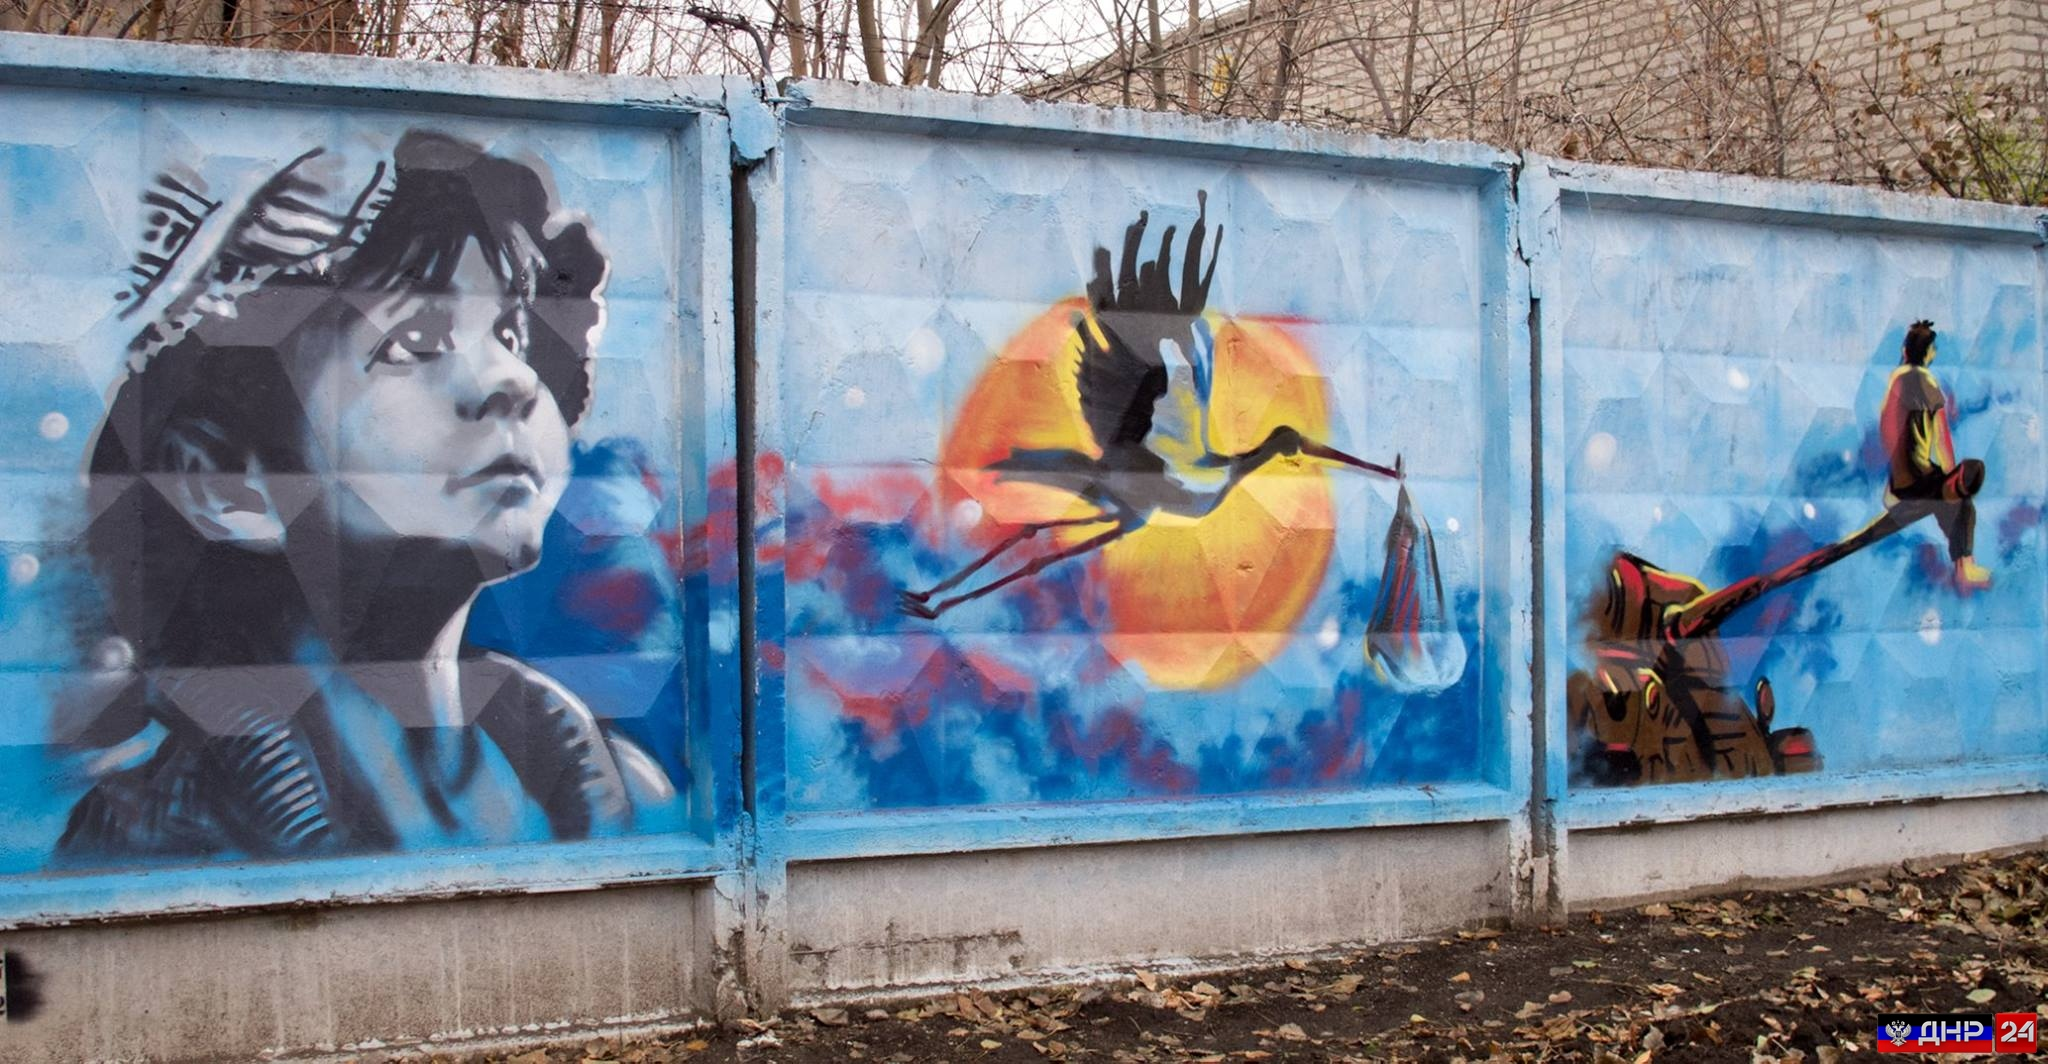graphite: (45, 87, 675, 866), (791, 130, 1478, 799), (1554, 191, 2037, 786)
